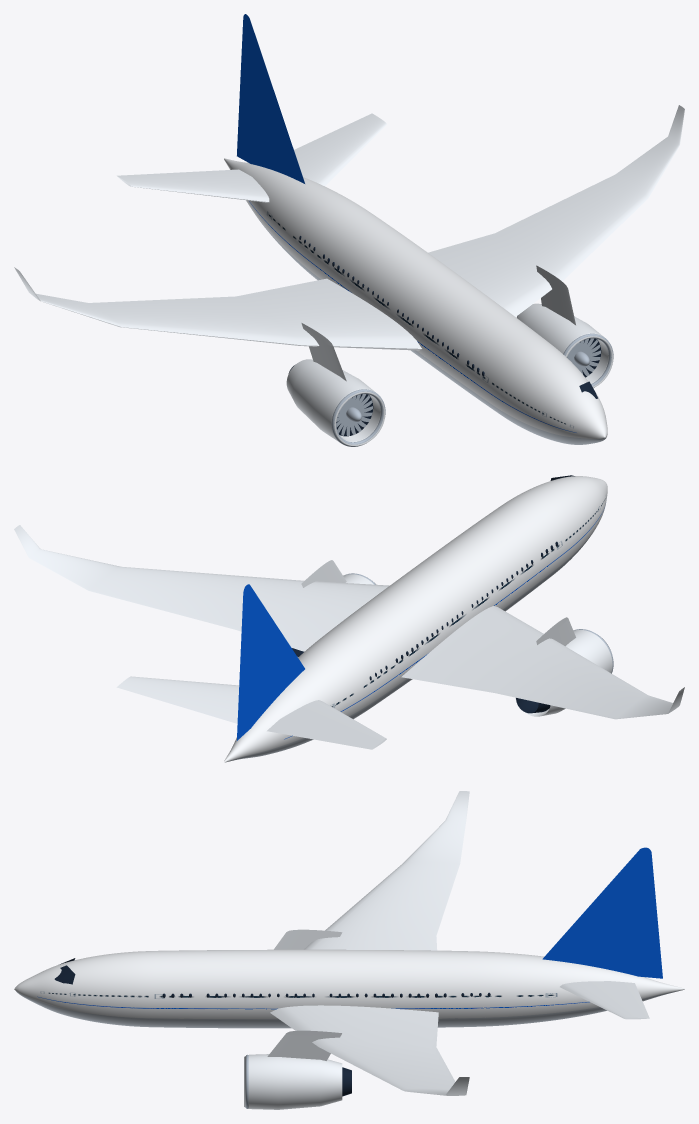
Rendered from operion-airliner.glb.
3 renders of one model, top to bottom at view 1: azimuth 30°, elevation 25°; view 2: azimuth 150°, elevation 25°; view 3: azimuth 270°, elevation 25°, orthographic. The views are drawn at different scales.
Visible parts, largest first — view 1: Operion Home 3D Asset View Airliner; view 2: Operion Home 3D Asset View Airliner; view 3: Operion Home 3D Asset View Airliner.
Part boxes in pixels (x1,y1,x2,y2): Operion Home 3D Asset View Airliner: [14, 14, 684, 446]; Operion Home 3D Asset View Airliner: [14, 475, 684, 762]; Operion Home 3D Asset View Airliner: [14, 791, 684, 1109].
Size of the model in its own units: 7.7 by 2.65 by 7.64.
Materials: 5 (1 with a texture image).
